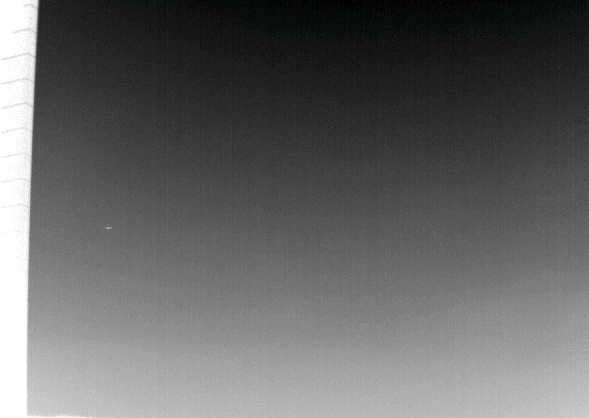dim target: (104, 226, 112, 230)
